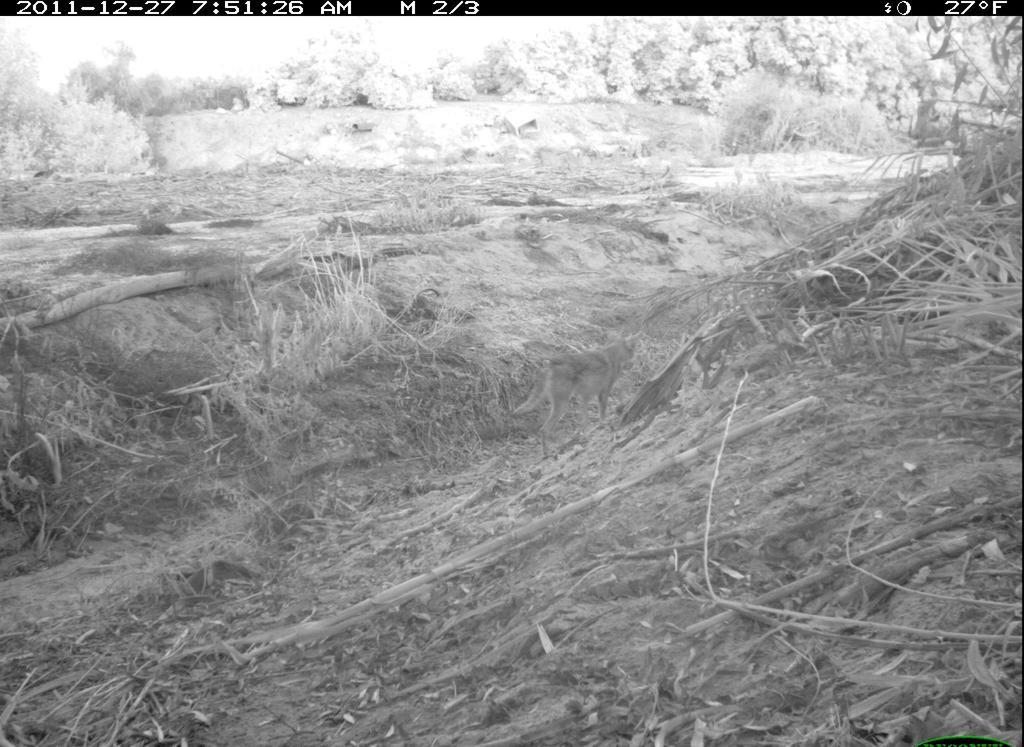coyote: (506, 323, 648, 458)
